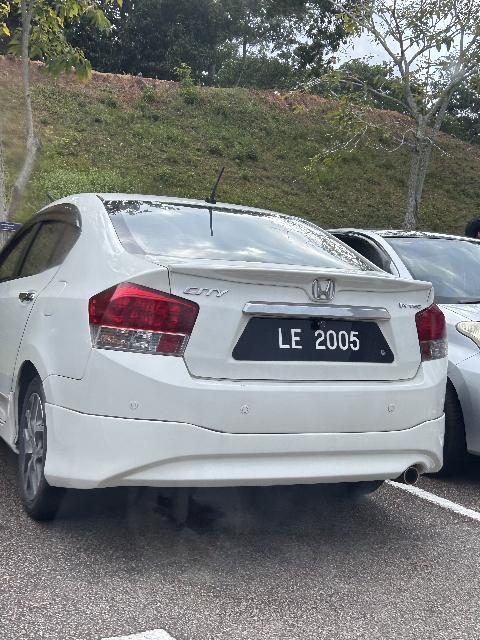LE2005: (257, 322, 374, 359)
License_Plate: (257, 322, 374, 359)
car: (2, 189, 457, 523)
